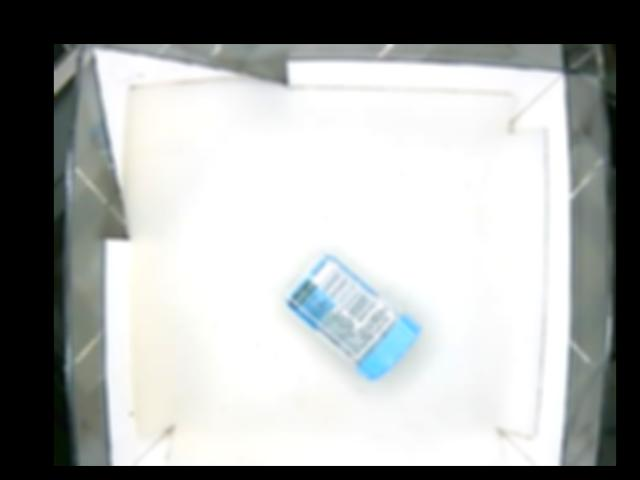Bottle: (285, 255, 420, 382)
